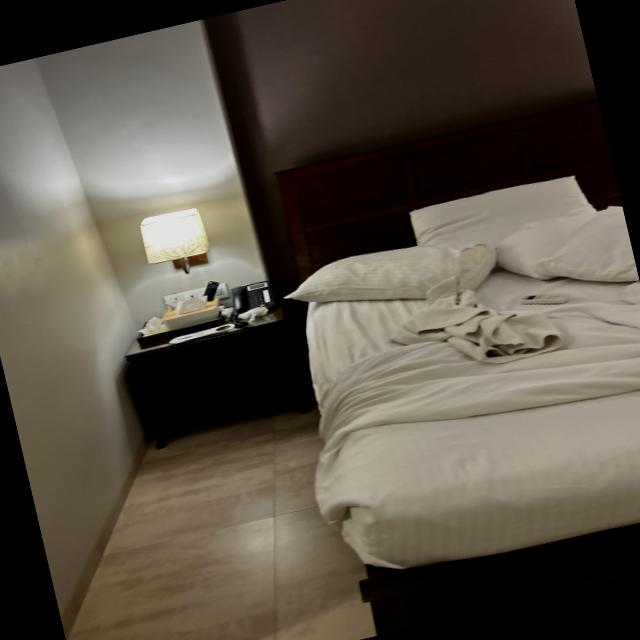mess: (278, 167, 640, 616), (91, 250, 286, 380)
